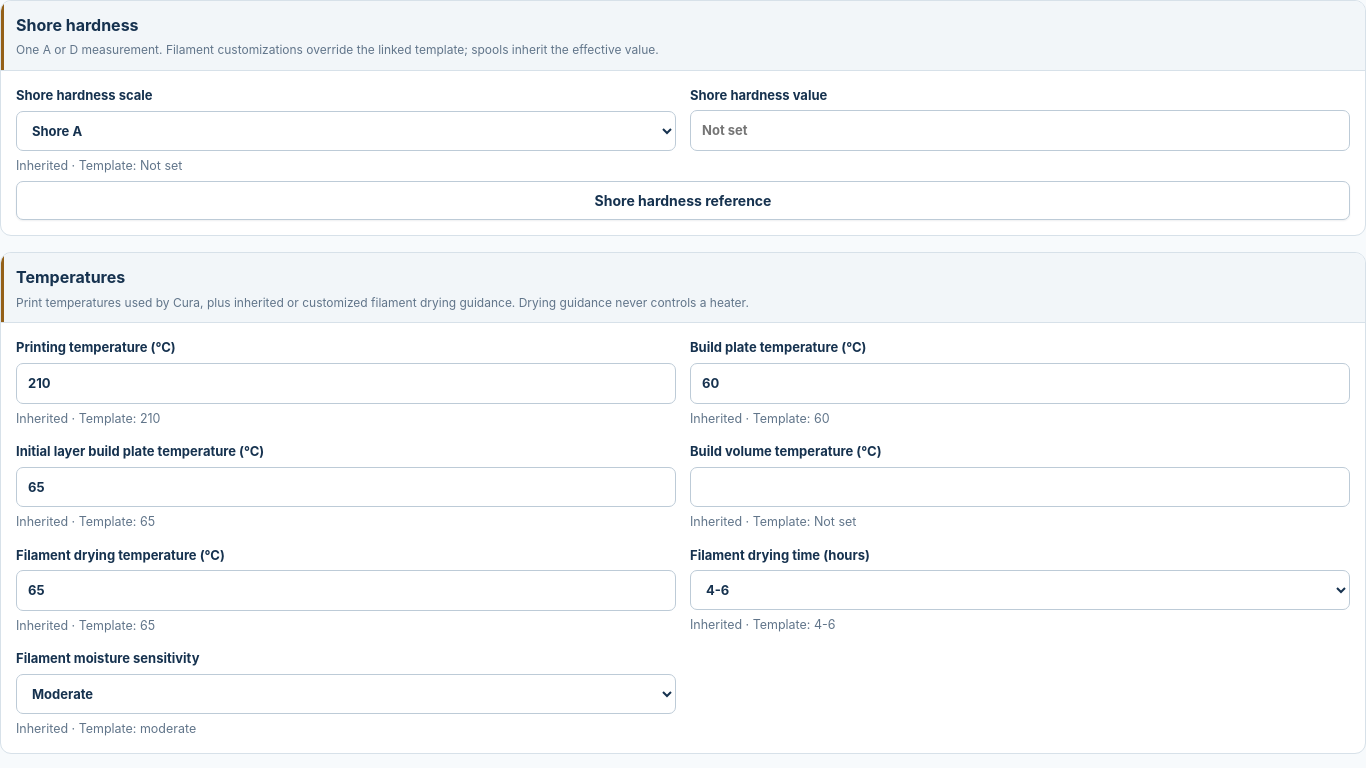
Test: MaterialSettingsEditor validation › edits and reverts all three filament care overrides
Replace the text in the number field labelled "Filament drying temperature (°C)" with "75". click: (346, 591)
box: [16,570,676,611]
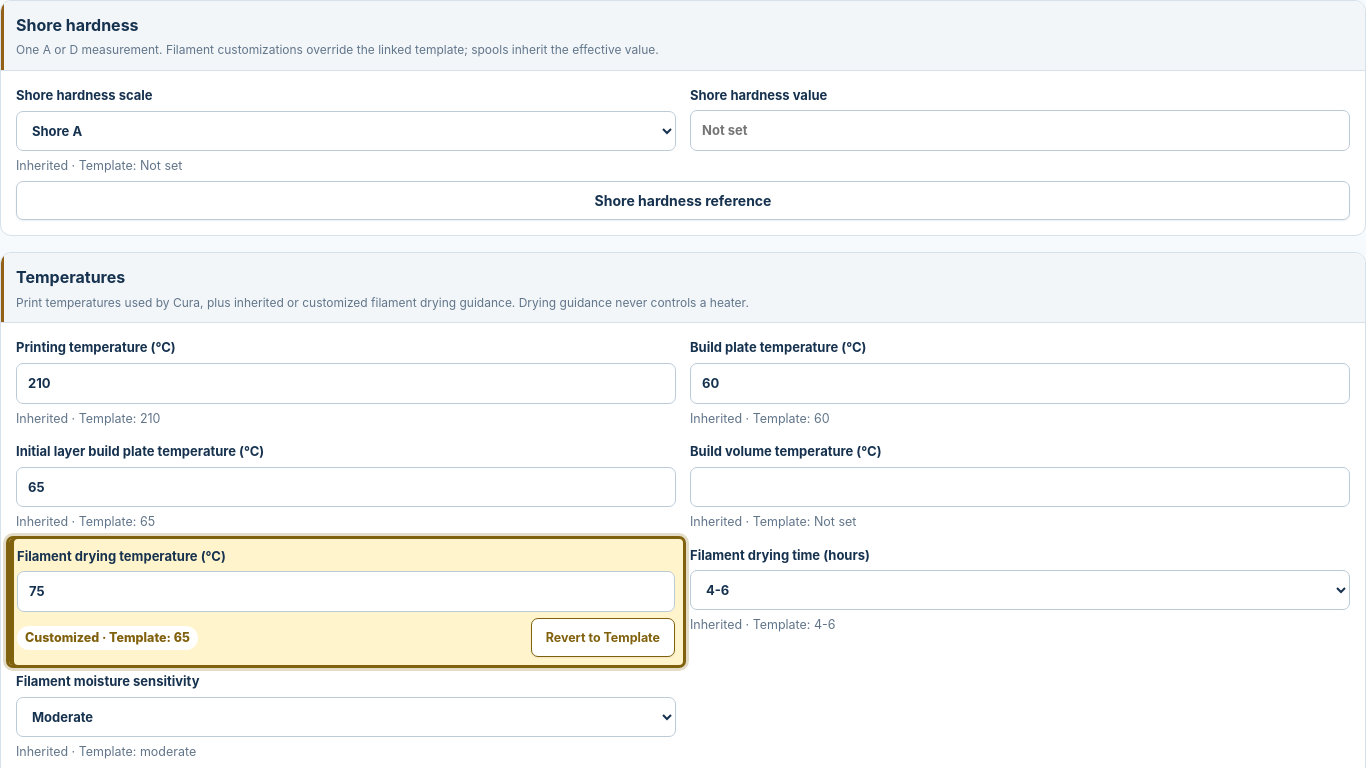
Click the button "Revert to Template". click: (603, 638)
box: [531,618,675,657]
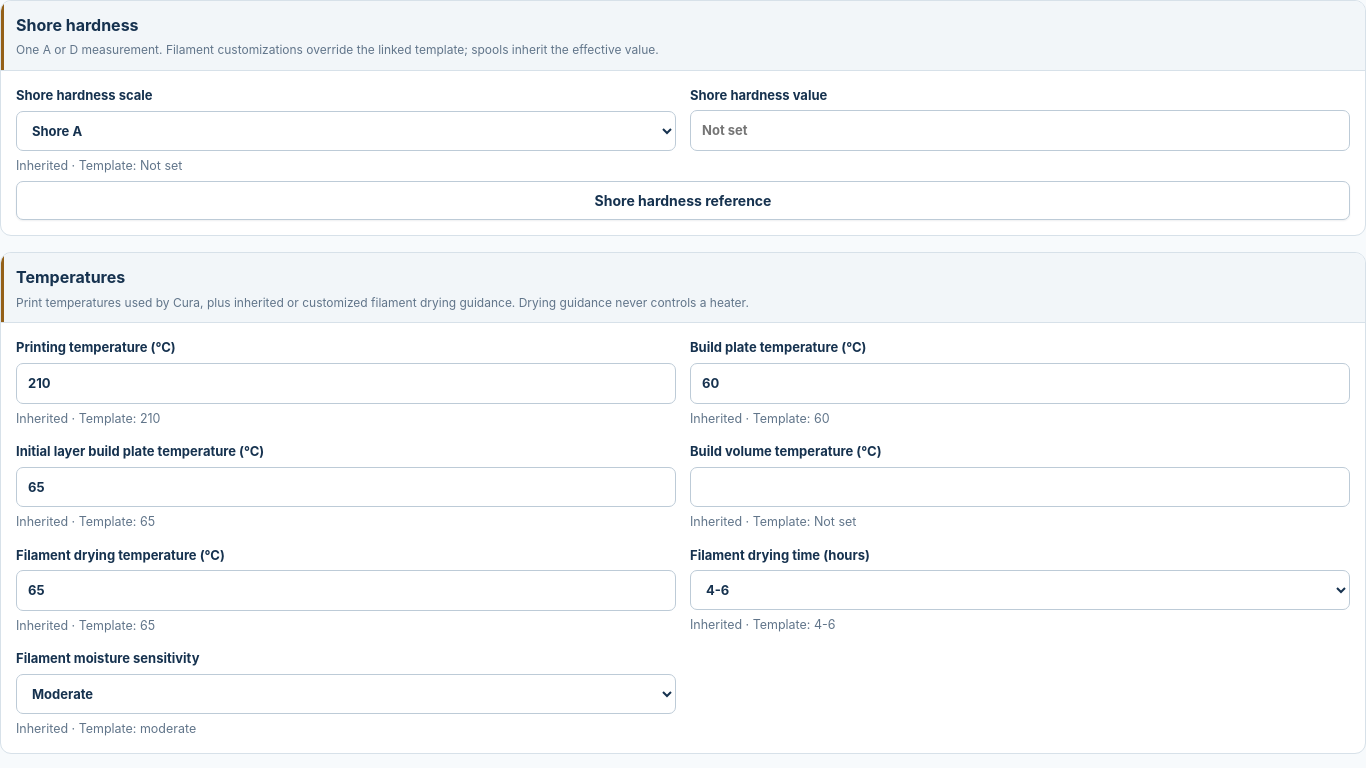
Expected: the button "Revert to Template" is gone
Select "12+" in the dropdown labelled "Filament drying time (hours)". click: (1020, 590)
box: [690,570,1350,610]
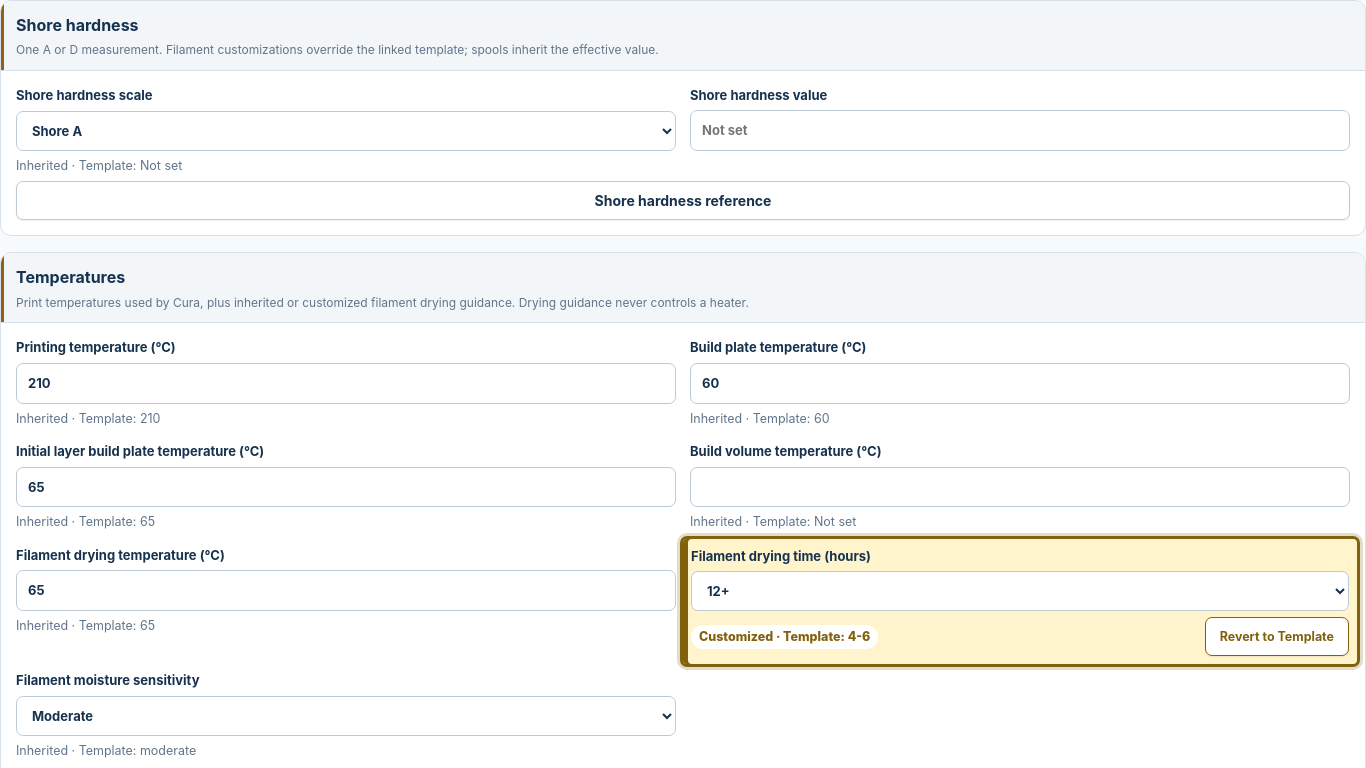
Click the button "Revert to Template". click: (1277, 637)
box: [1205,617,1349,656]
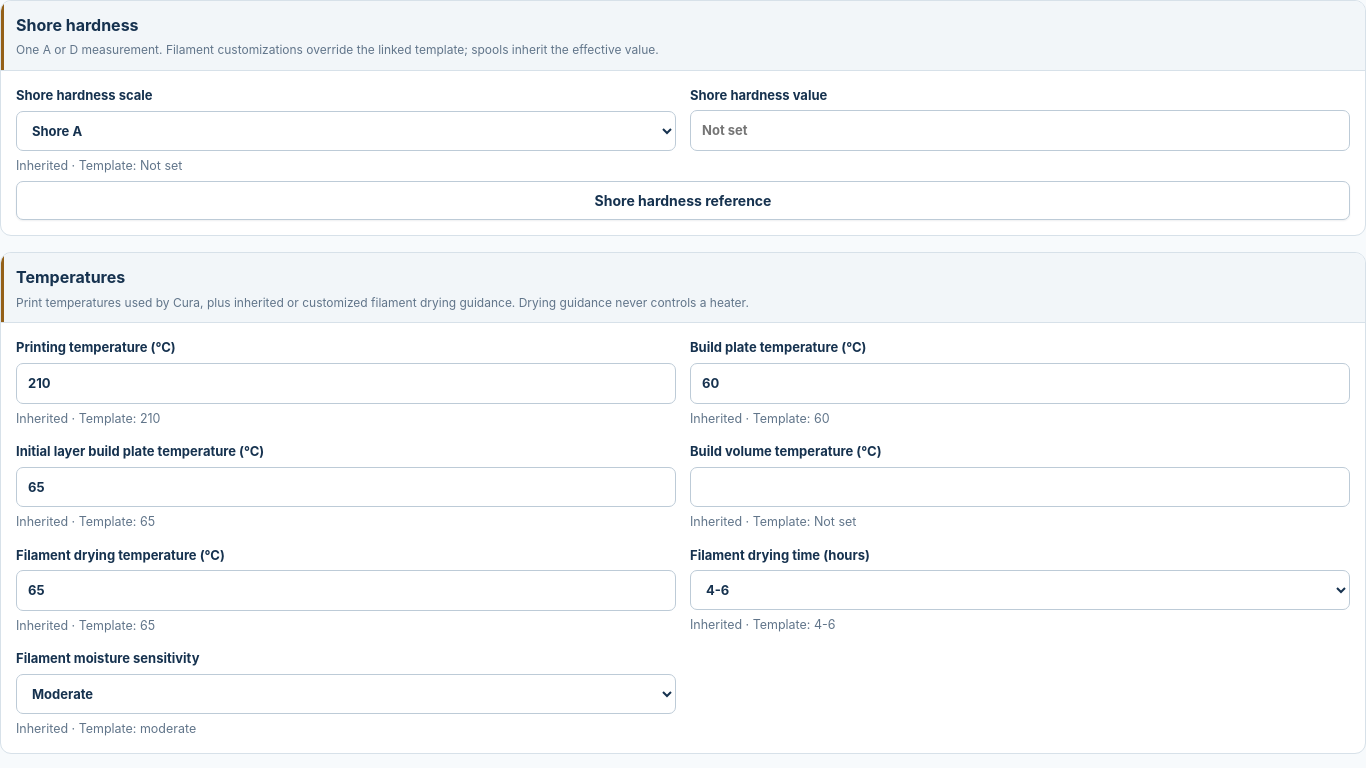
Select "Extremely high" in the dropdown labelled "Filament moisture sensitivity". click: (346, 694)
box: [16,674,676,714]
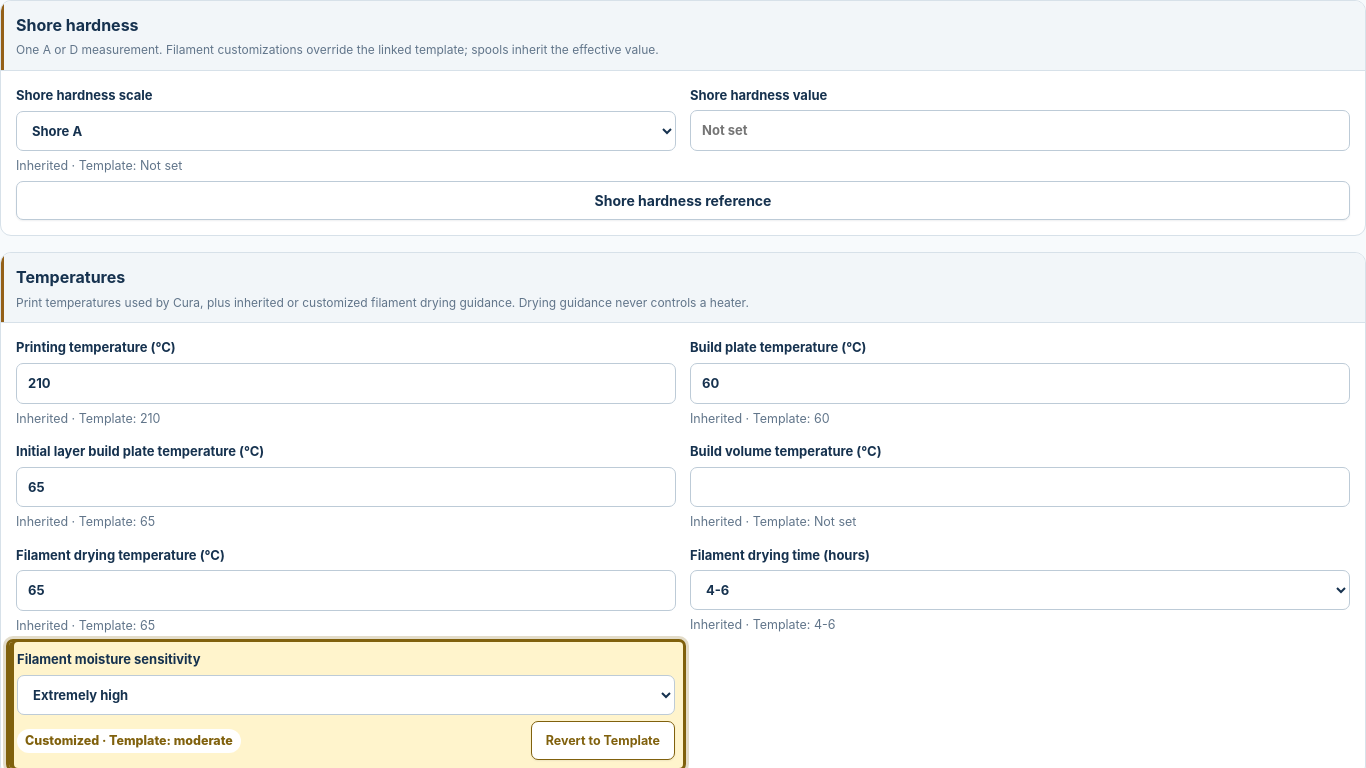
Click the button "Revert to Template". click: (603, 741)
box: [531,721,675,760]
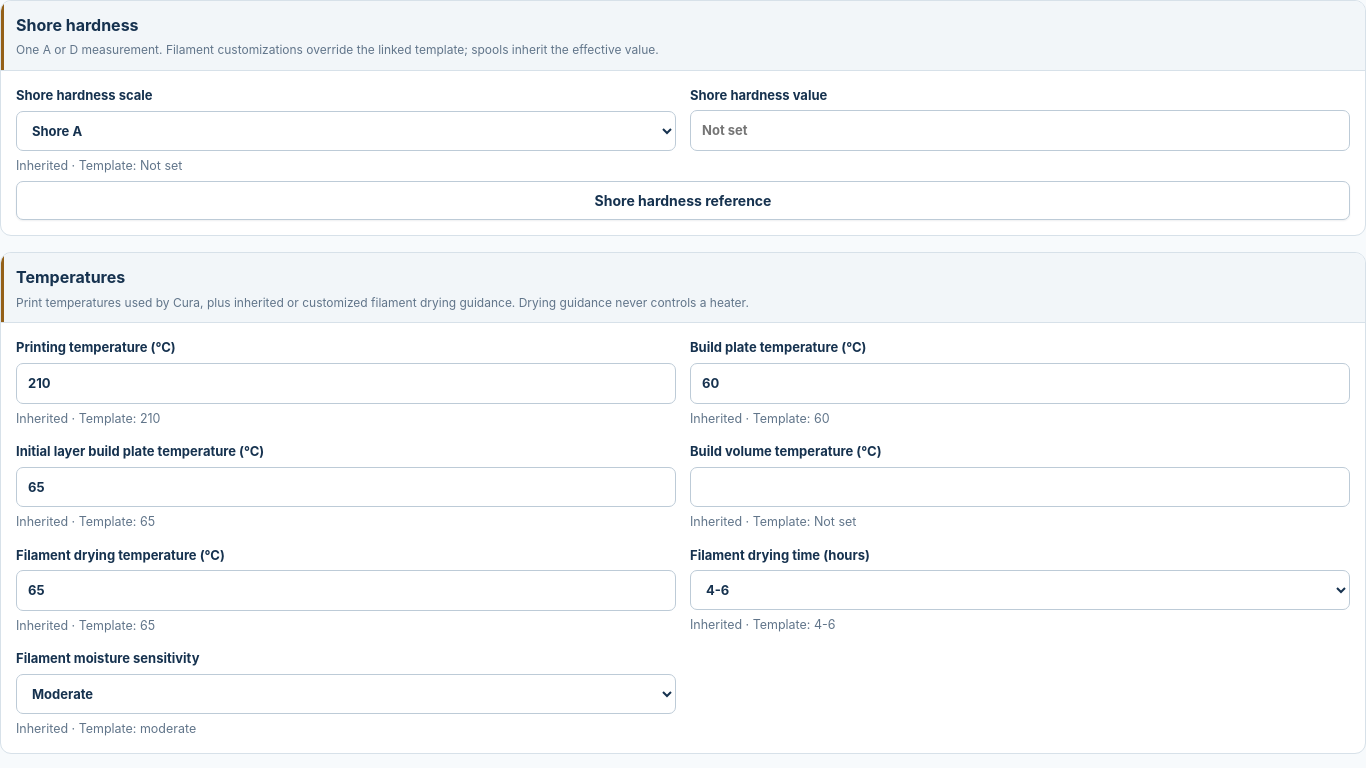
Expected: the button "Revert to Template" is gone
